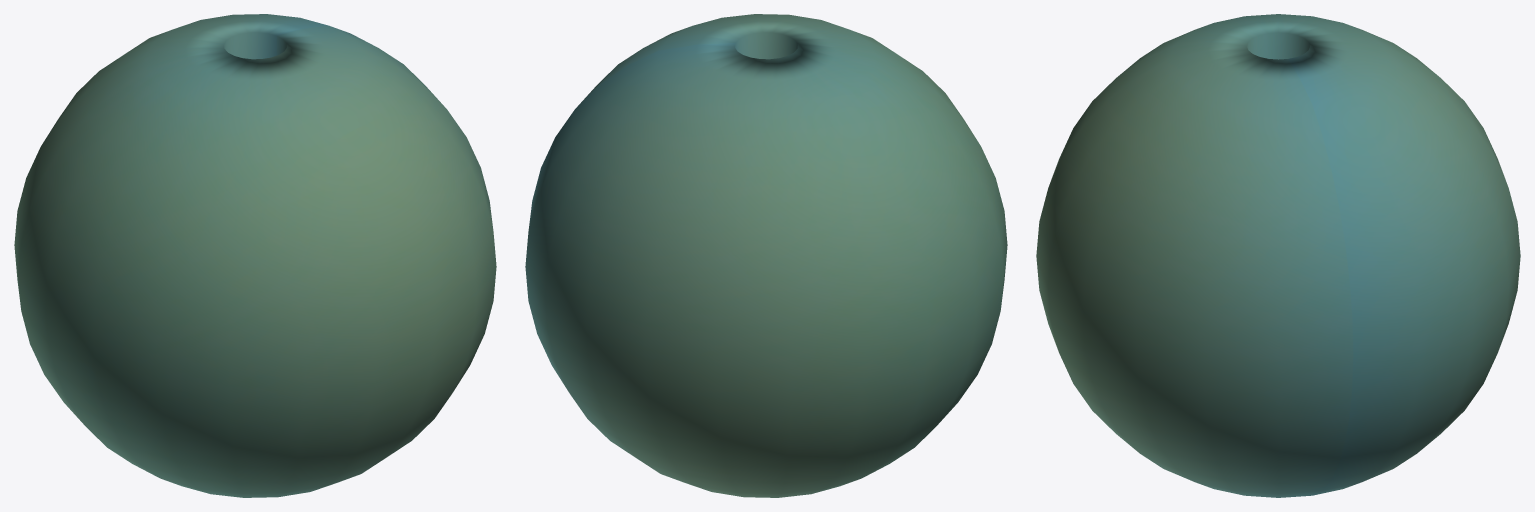
File: buoy.fbx
The picture shows the model from 3 angles, left to right: view 1: azimuth 30°, elevation 25°; view 2: azimuth 150°, elevation 25°; view 3: azimuth 270°, elevation 25°; orthographic projection.
Visible parts, largest first — view 1: pSphere2; view 2: pSphere2; view 3: pSphere2.
Boxes of the visible parts, x1,y1,x2,y2 form: pSphere2: [14, 14, 496, 497]; pSphere2: [525, 14, 1007, 497]; pSphere2: [1036, 14, 1520, 497].
Size of the model in its own units: 2 by 1.91 by 2.
1 material, 1 textured.
